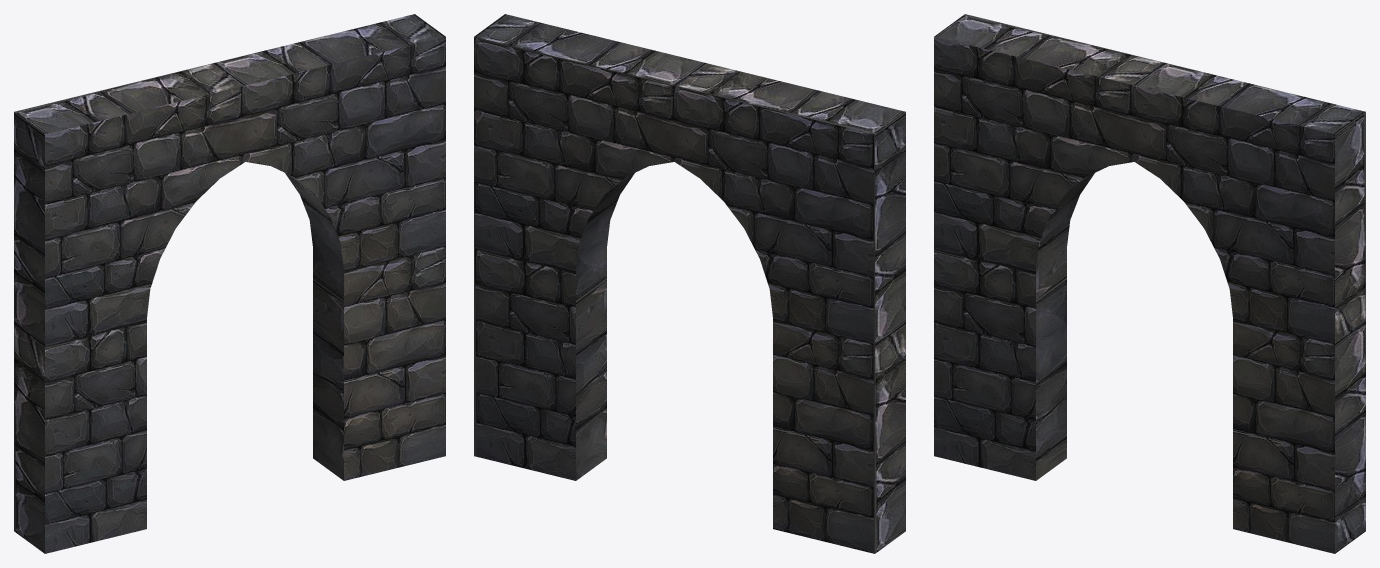
The model's file is Wall_with_hole.fbx.
3 views of the same model, side by side, from view 1: azimuth 30°, elevation 25°; view 2: azimuth 150°, elevation 25°; view 3: azimuth 330°, elevation 25° (orthographic).
Visible parts, largest first — view 1: Wall_entrance; view 2: Wall_entrance; view 3: Wall_entrance.
Part boxes in pixels (<box>): Wall_entrance: <box>14,14,445,553</box>; Wall_entrance: <box>474,14,905,553</box>; Wall_entrance: <box>934,14,1365,553</box>.
Size of the model in its own units: 4.36 by 4.36 by 0.5823.
